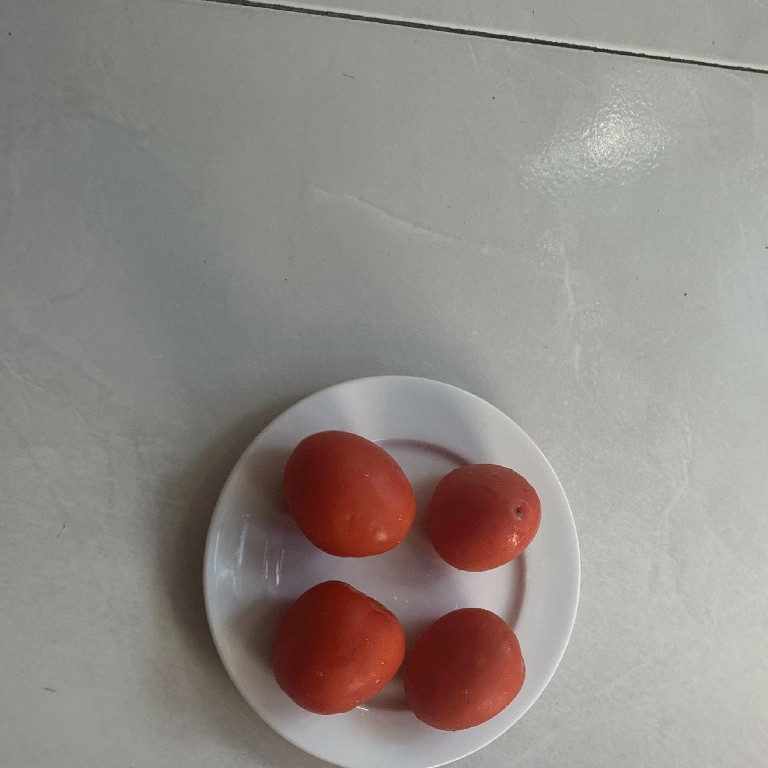OK: (274, 424, 428, 565), (272, 578, 407, 719), (404, 600, 529, 744), (421, 462, 555, 578)
